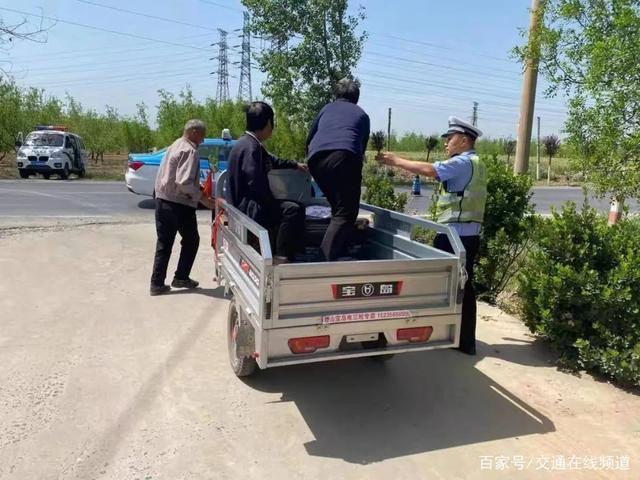driver: (136, 107, 218, 292)
overloading: (201, 80, 467, 385)
passenger: (305, 71, 379, 259), (221, 86, 297, 250)
